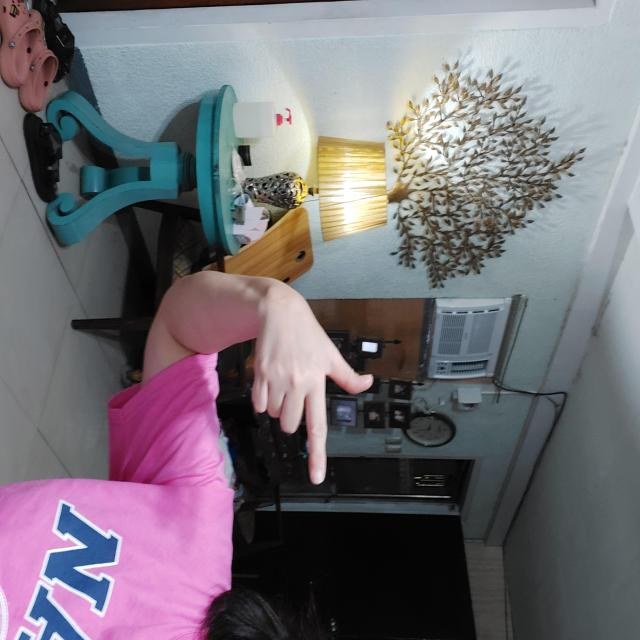G: (278, 266, 485, 388)
